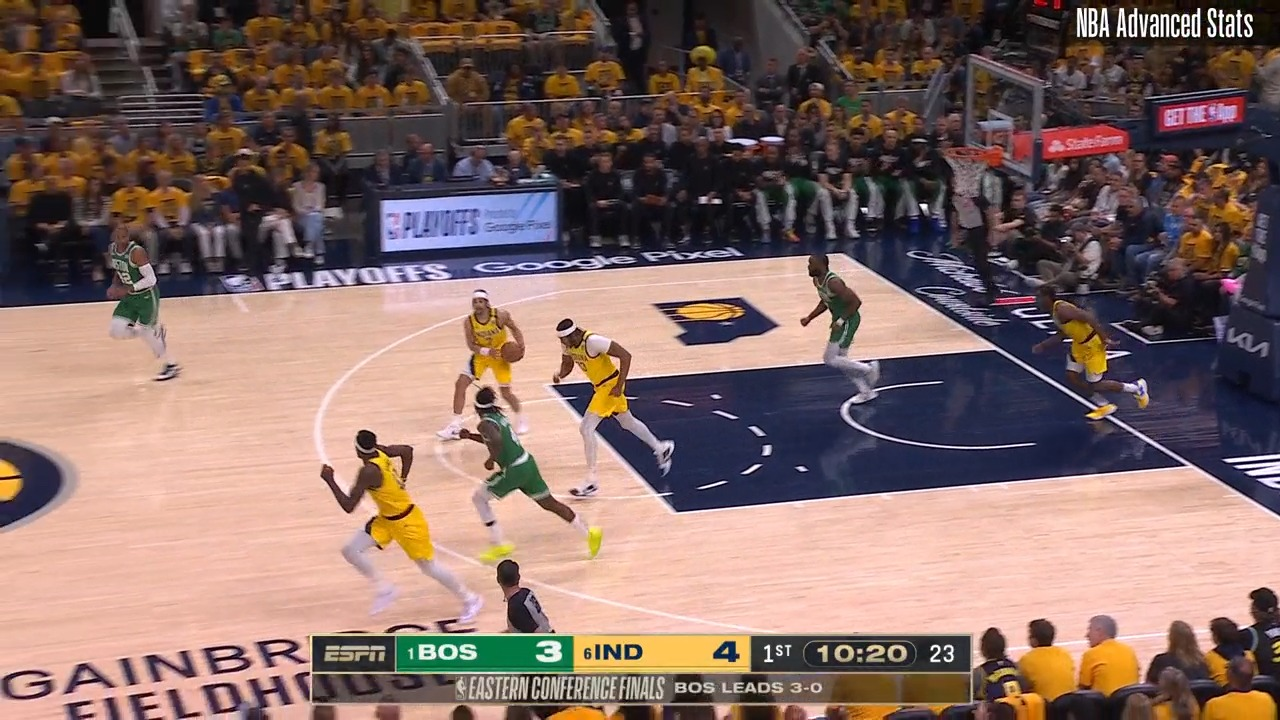basketball: (499, 339, 523, 364)
